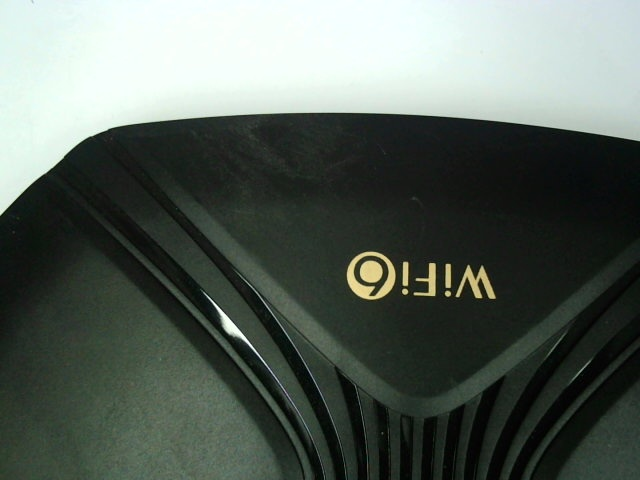AK_ZTEWIFI6Black: (326, 243, 498, 308)
